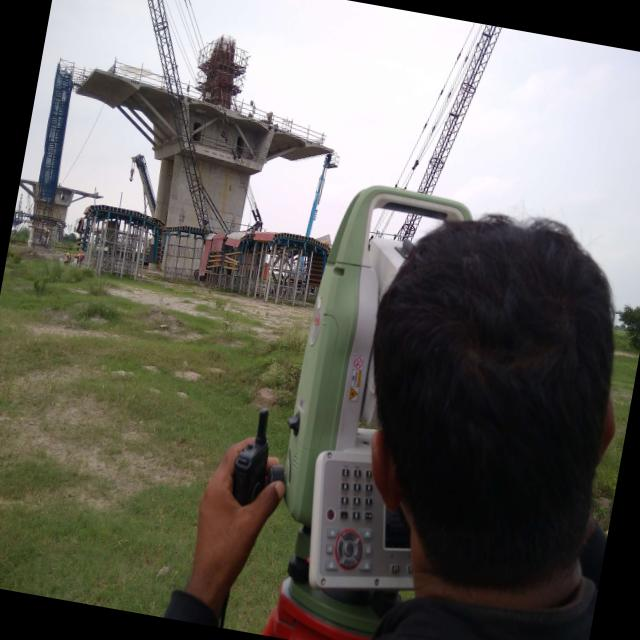grass: (0, 244, 309, 617), (225, 508, 296, 634), (593, 344, 639, 533)
